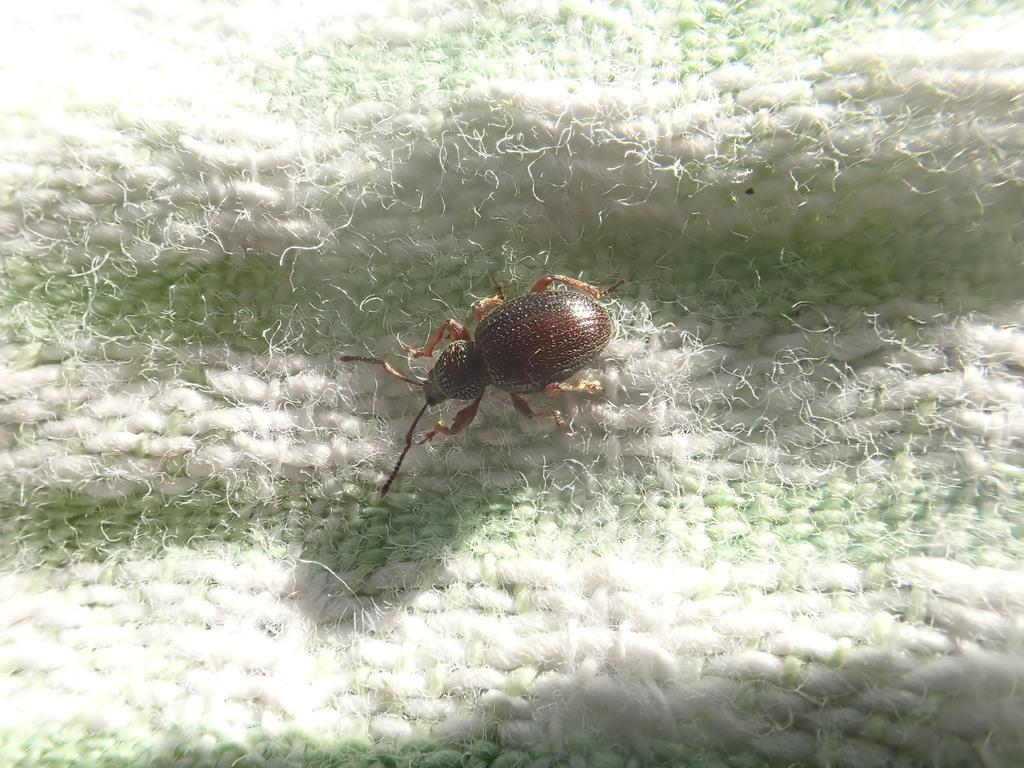weevils: (293, 204, 689, 529)
